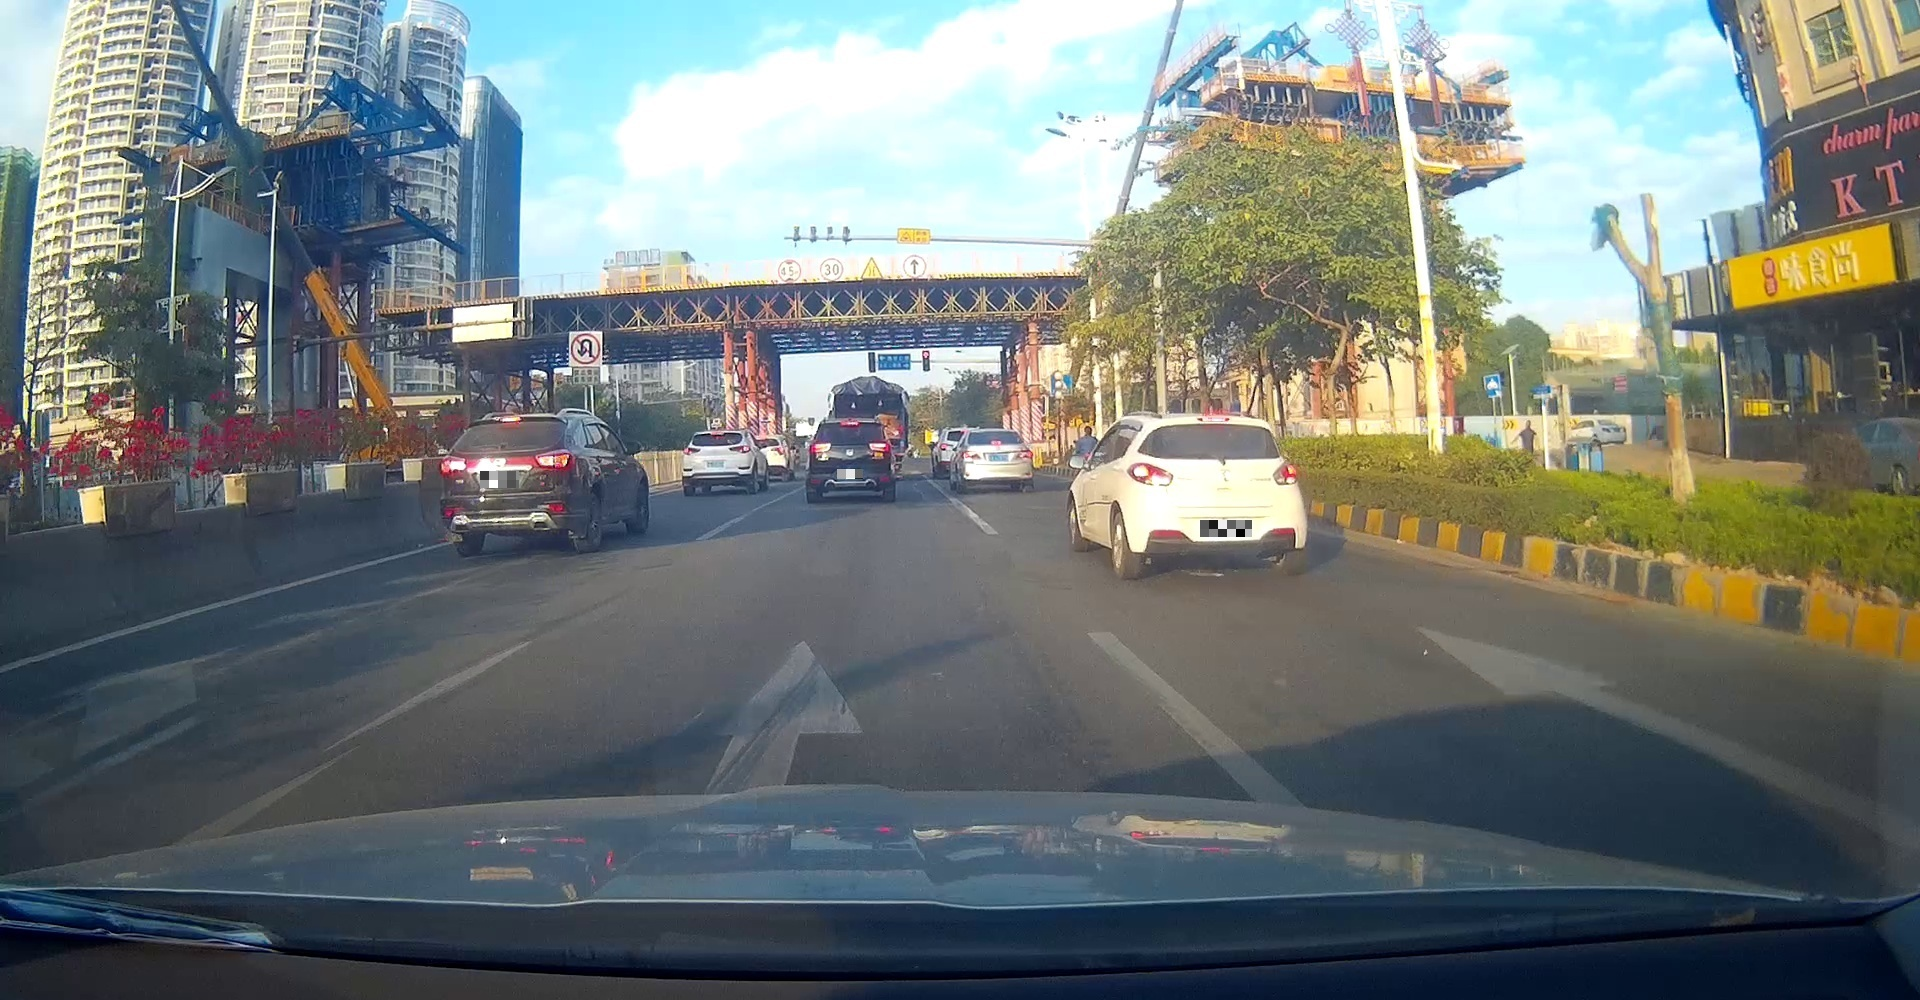L_light: (1125, 461, 1175, 487), (438, 454, 469, 475), (809, 442, 832, 454), (961, 451, 982, 459), (682, 447, 701, 456)
R_light: (533, 448, 577, 472), (1272, 458, 1299, 485), (869, 440, 891, 453), (728, 445, 752, 454), (1017, 449, 1032, 458)
T_light: (497, 414, 523, 423), (1197, 416, 1230, 423), (841, 420, 858, 426), (709, 431, 725, 437), (990, 440, 1002, 445)
day-brake: (1123, 414, 1307, 577), (436, 412, 584, 553), (806, 418, 897, 503)
day-no: (681, 430, 754, 496), (960, 429, 1032, 492)
plate_1: (480, 471, 519, 489)
plate_2: (837, 470, 863, 478)
plate_3: (1200, 520, 1252, 537)
